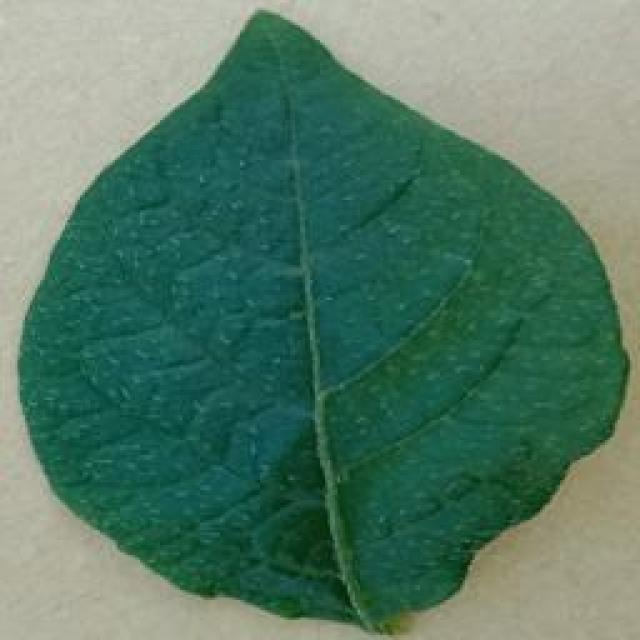Potato_Healthy: (17, 7, 622, 631)
